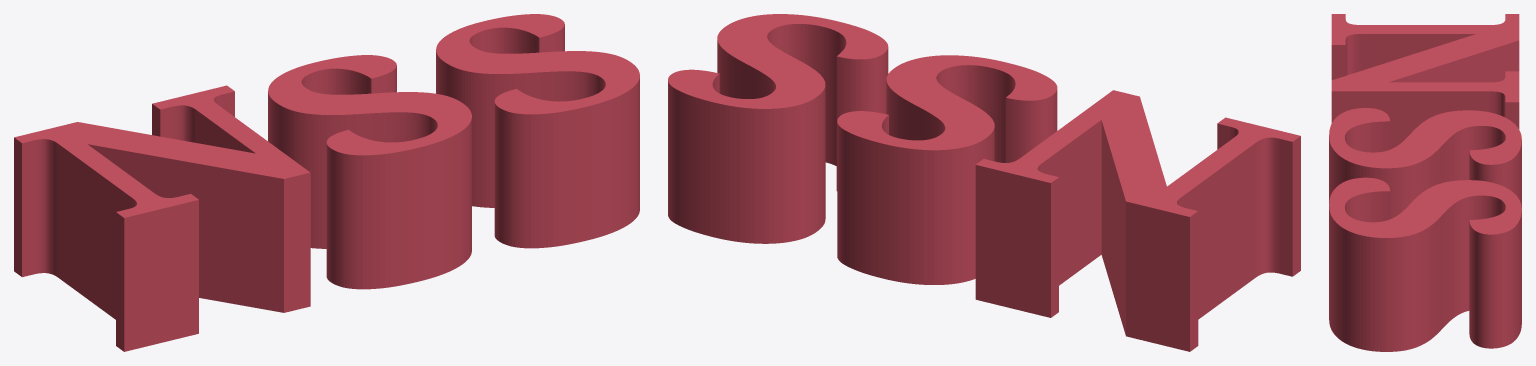
Rendered from NSS.glb.
3 renders of one model, left to right at view 1: azimuth 30°, elevation 25°; view 2: azimuth 150°, elevation 25°; view 3: azimuth 270°, elevation 25°, orthographic. The views are drawn at different scales.
Visible parts, largest first — view 1: Mesh_Mesh_head_geo.001_lambert2SG.001; view 2: Mesh_Mesh_head_geo.001_lambert2SG.001; view 3: Mesh_Mesh_head_geo.001_lambert2SG.001.
Part boxes in pixels (x1,y1,x2,y2): Mesh_Mesh_head_geo.001_lambert2SG.001: (14, 14, 639, 351); Mesh_Mesh_head_geo.001_lambert2SG.001: (668, 14, 1300, 351); Mesh_Mesh_head_geo.001_lambert2SG.001: (1329, 14, 1521, 351).
Size of the model in its own units: 42.17 by 10 by 15.33.
